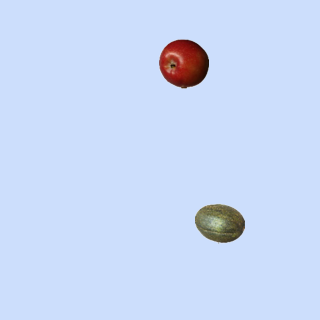Apple Braeburn: (158, 38, 208, 88)
Melon Piel de Sapo: (194, 198, 244, 248)
